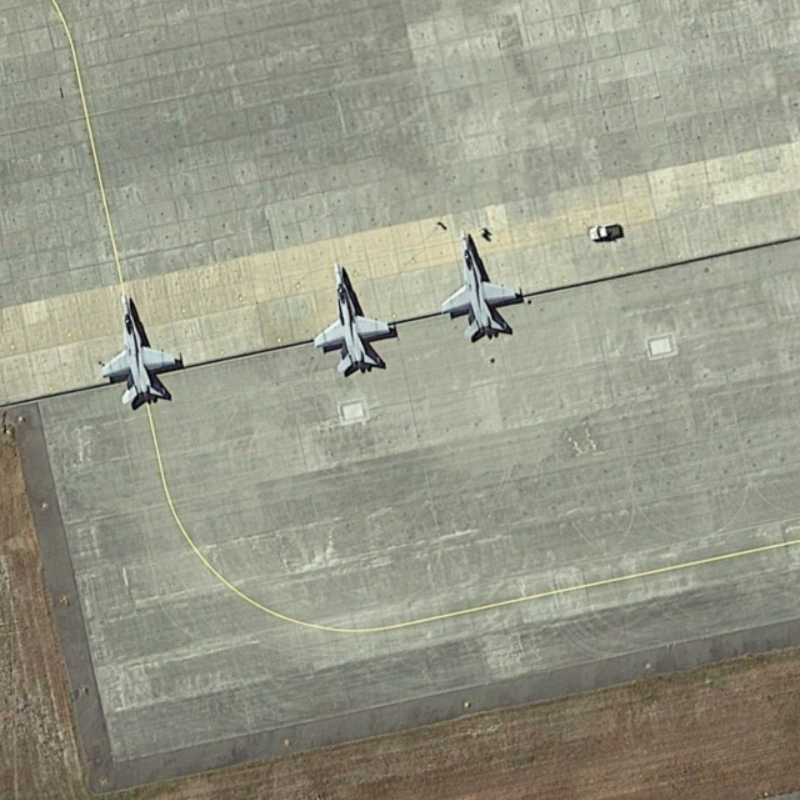A16: (301, 254, 403, 381), (87, 287, 190, 411), (438, 229, 532, 346)
